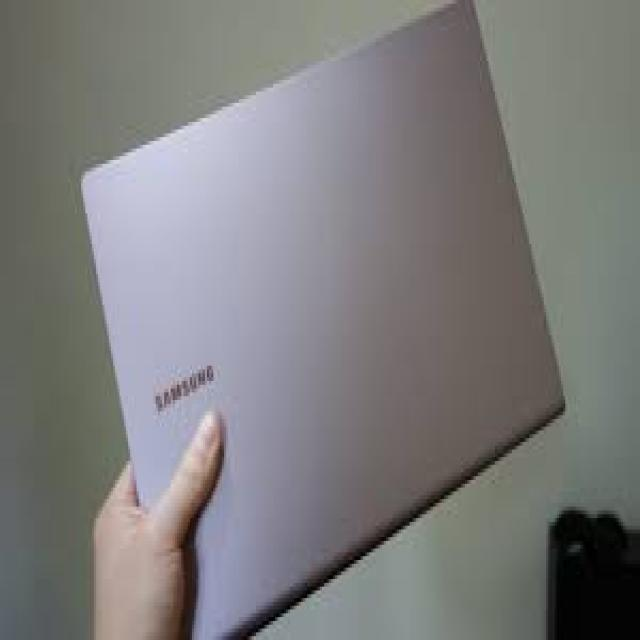laptop: (77, 0, 565, 636)
